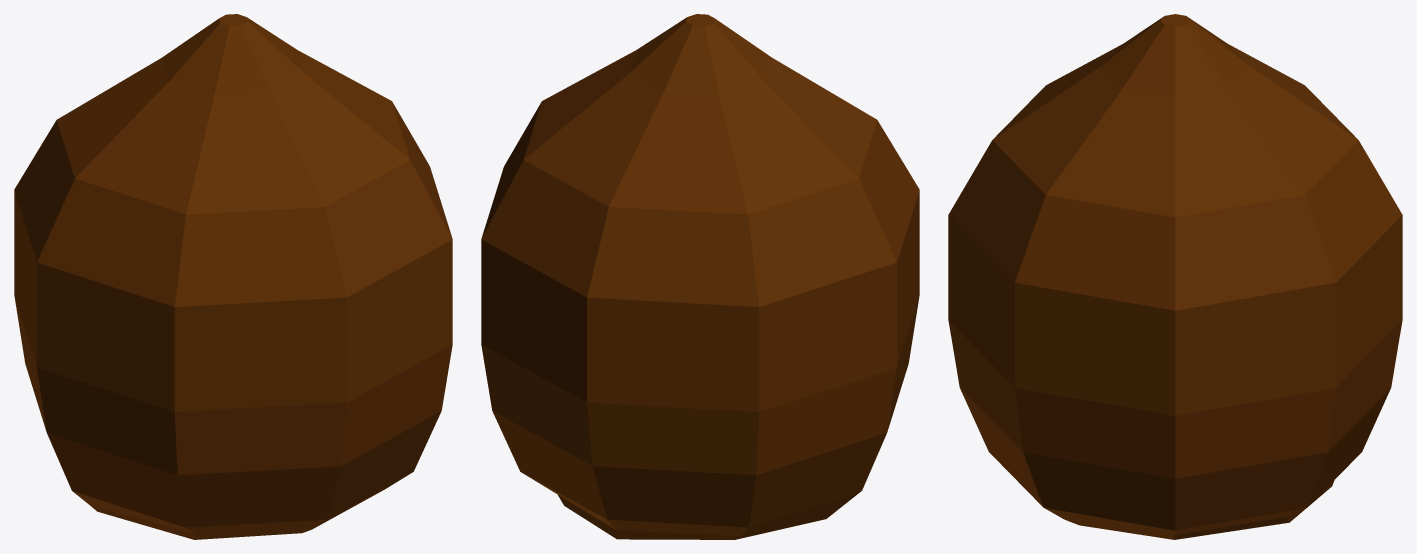
File: hazelnut02.gltf
3 views of the same model, side by side, from view 1: azimuth 30°, elevation 25°; view 2: azimuth 150°, elevation 25°; view 3: azimuth 270°, elevation 25° (orthographic).
Visible parts, largest first — view 1: Cylinder; view 2: Cylinder; view 3: Cylinder.
Boxes of the visible parts, box(x1,y1,x2,y2) form: Cylinder: box(14, 14, 452, 539); Cylinder: box(481, 14, 919, 539); Cylinder: box(948, 14, 1402, 539).
Size of the model in its own units: 0.0186 by 0.0214 by 0.0186.
1 material, 1 textured.
